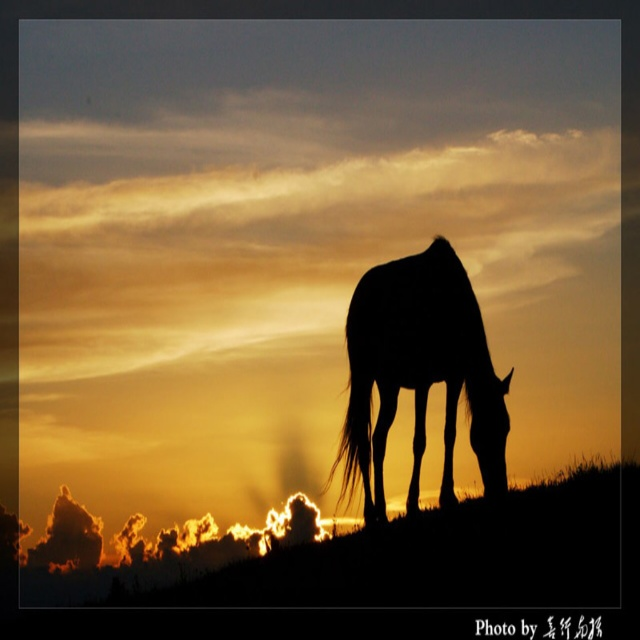Horse: (315, 234, 514, 527)
